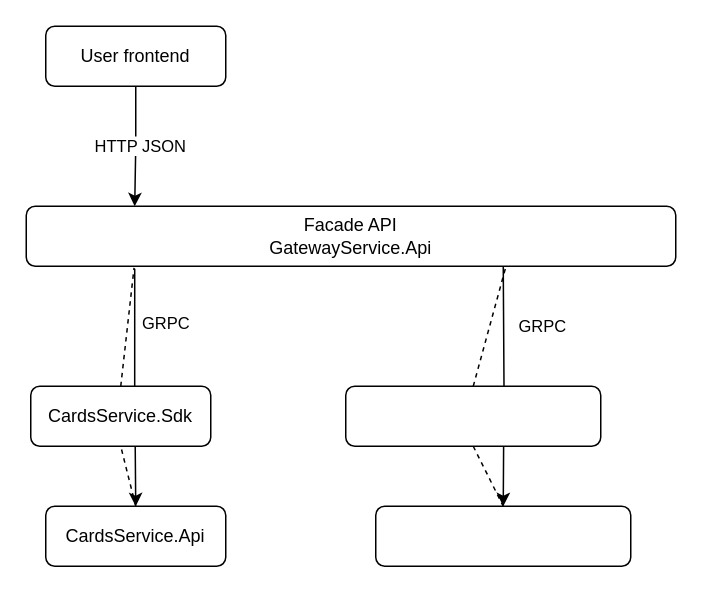
Some shapes in this 702 by 593 pixel diagram are drawn without their labels. Here are the shapes that lost their labels. From the top down, the box of each, then its label:
(344, 385, 601, 446): ApplicationsService.Sdk
(374, 505, 631, 566): ApplicationsService.Api
